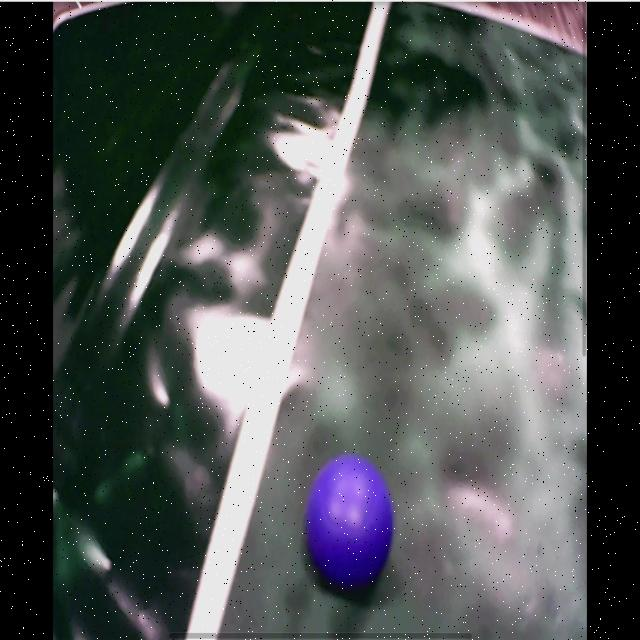ball: (308, 458, 393, 588)
